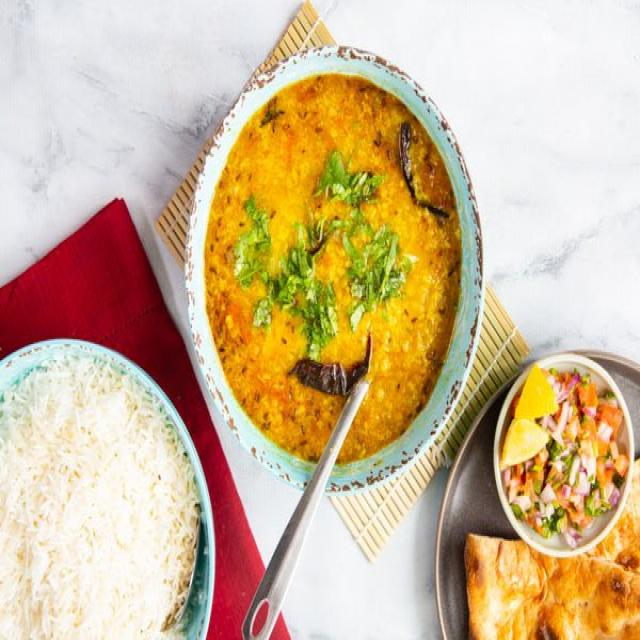dal: (241, 116, 437, 448)
rice: (4, 366, 182, 640)
